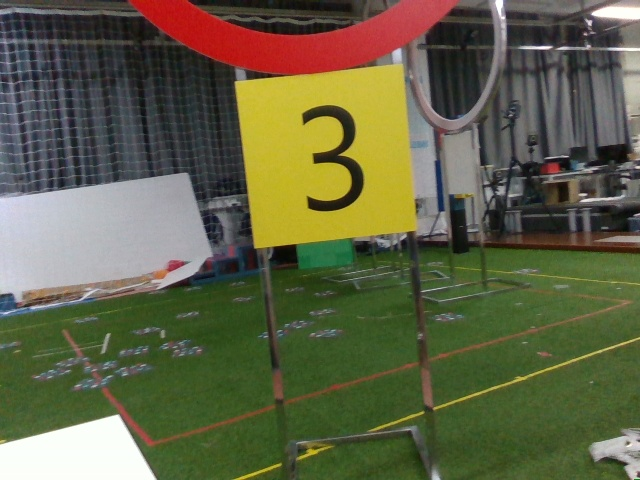target: (239, 79, 416, 230)
